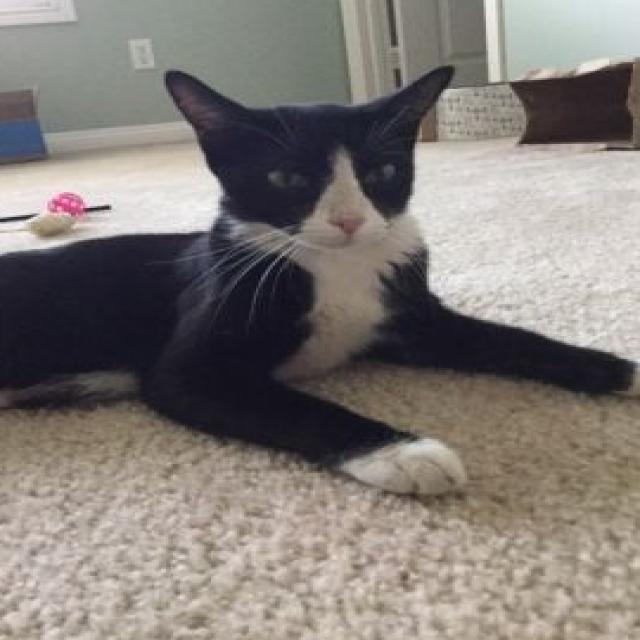Tuxedo: (0, 61, 640, 500)
